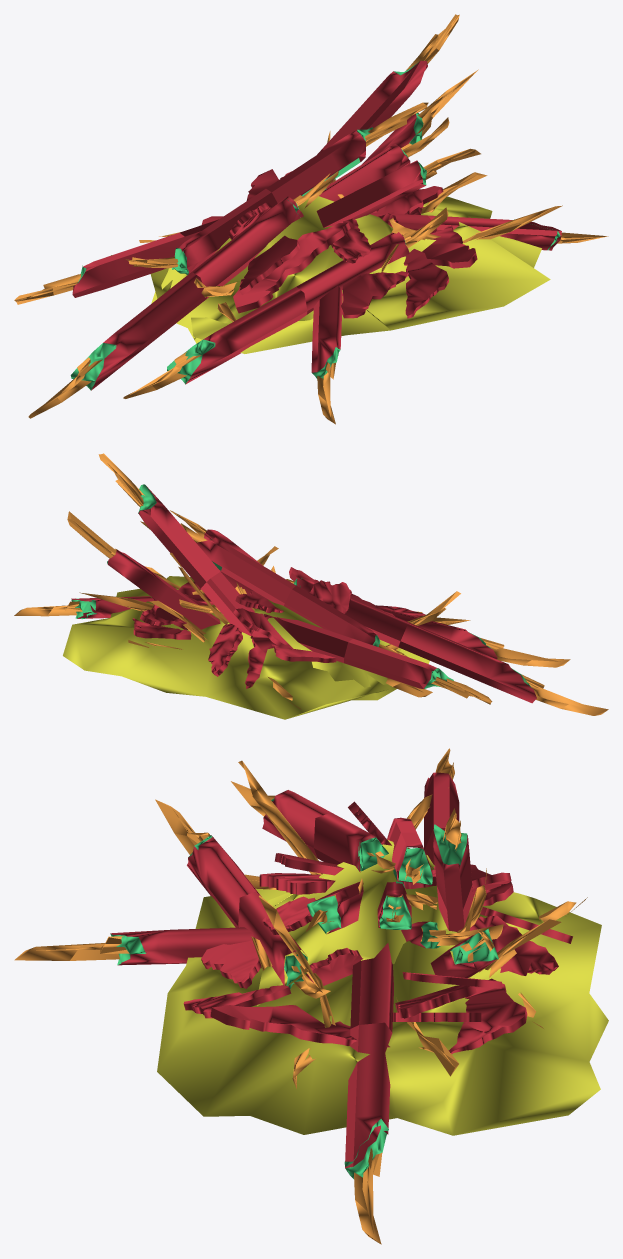
Rendered from concrete_rubble_a.glb.
3 views of the same model, one above another, from view 1: azimuth 30°, elevation 25°; view 2: azimuth 150°, elevation 25°; view 3: azimuth 270°, elevation 25° (orthographic). The views are drawn at different scales.
Size of the model in its own units: 37.04 by 13.24 by 20.64.
